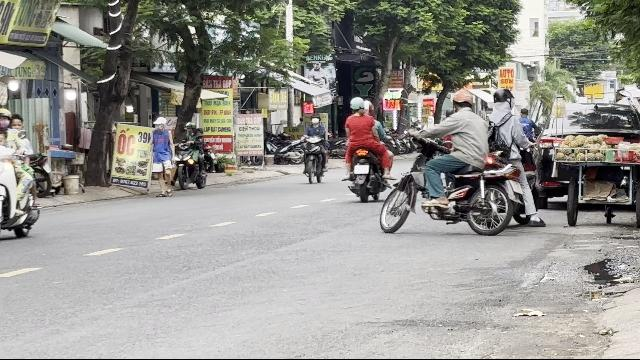helmet: (452, 88, 474, 112), (491, 88, 513, 110), (349, 97, 366, 114)
licenseplate: (354, 164, 368, 172)
motorcyclist: (410, 87, 490, 236), (478, 86, 542, 232), (340, 95, 392, 200)
